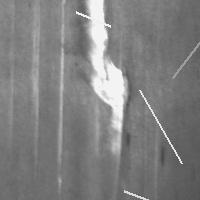scratches: (81, 1, 129, 159), (134, 85, 186, 168), (27, 1, 43, 163), (168, 3, 200, 82), (55, 1, 67, 164), (119, 186, 200, 200), (71, 7, 115, 31)
